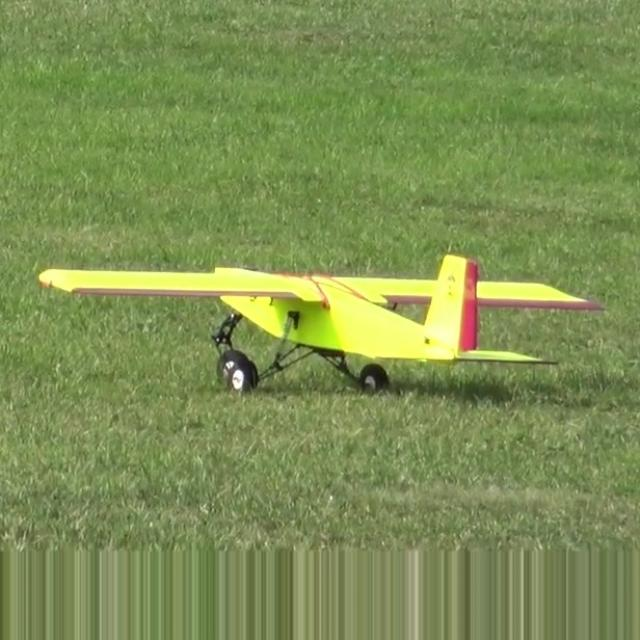iha: (31, 289, 609, 351)
